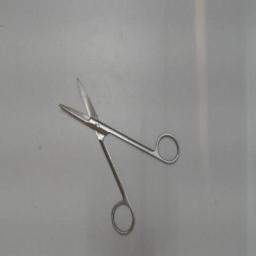Curved Mayo Scissors: (54, 74, 182, 242)
